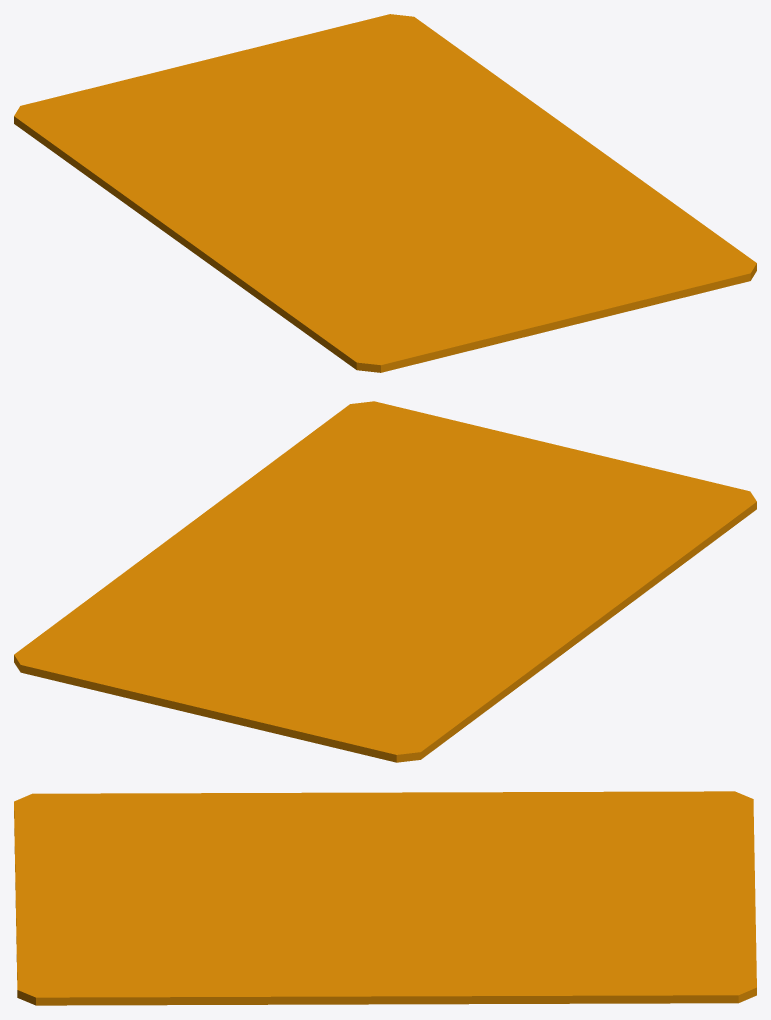
Rendered from Card.fbx.
3 views of the same model, one above another, from view 1: azimuth 30°, elevation 25°; view 2: azimuth 150°, elevation 25°; view 3: azimuth 270°, elevation 25° (orthographic). The views are drawn at different scales.
Visible parts, largest first — view 1: 平面.001; view 2: 平面.001; view 3: 平面.001.
Part boxes in pixels (x1,y1,x2,y2): 平面.001: [14, 14, 756, 372]; 平面.001: [14, 401, 756, 762]; 平面.001: [14, 791, 756, 1005].
Size of the model in its own units: 5.51 by 0.0996 by 8.39.
